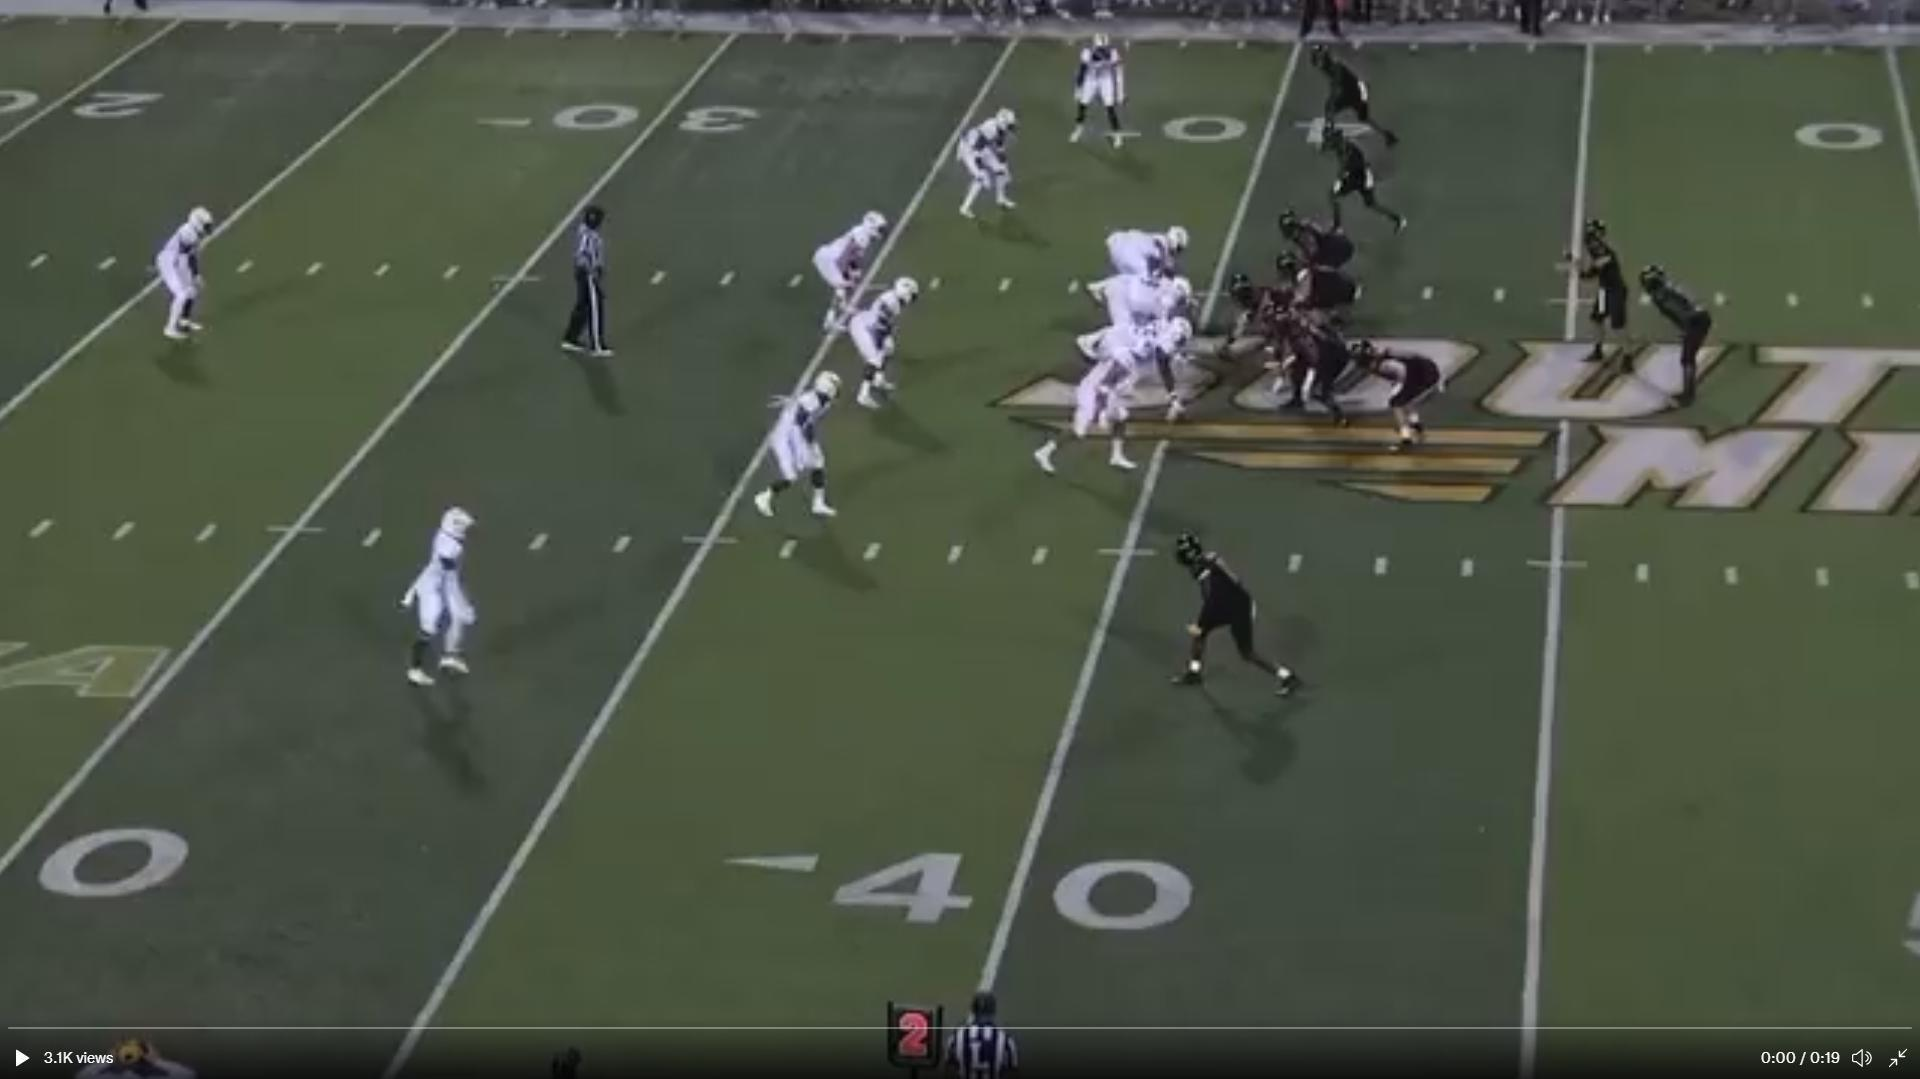player: (1168, 528, 1306, 705), (1026, 336, 1145, 483), (401, 501, 483, 698), (753, 370, 849, 531), (1068, 317, 1191, 424), (1636, 260, 1715, 414), (1296, 33, 1396, 153), (1317, 111, 1409, 241), (814, 207, 894, 346), (1348, 336, 1442, 454), (846, 276, 921, 420), (1261, 302, 1349, 424), (154, 200, 225, 347), (1070, 223, 1187, 306), (1574, 218, 1637, 370), (1072, 280, 1196, 356), (1221, 270, 1315, 369), (1276, 211, 1362, 314), (955, 106, 1025, 225), (1062, 36, 1129, 154), (1275, 250, 1364, 327)
ref: (563, 205, 624, 371), (935, 985, 1031, 1079), (1298, 0, 1353, 50)
